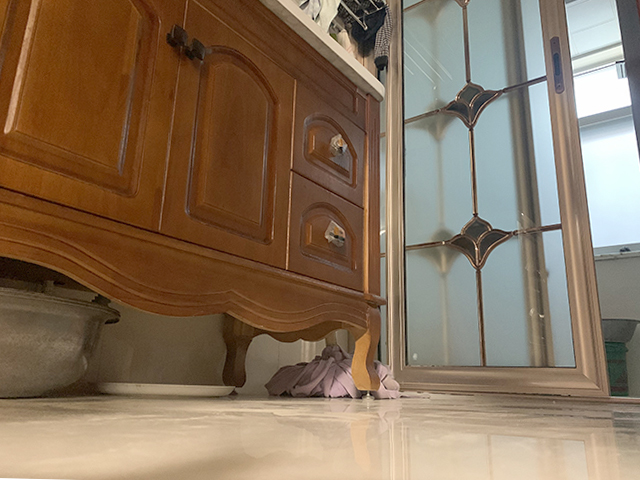cabinet: (1, 1, 387, 403)
